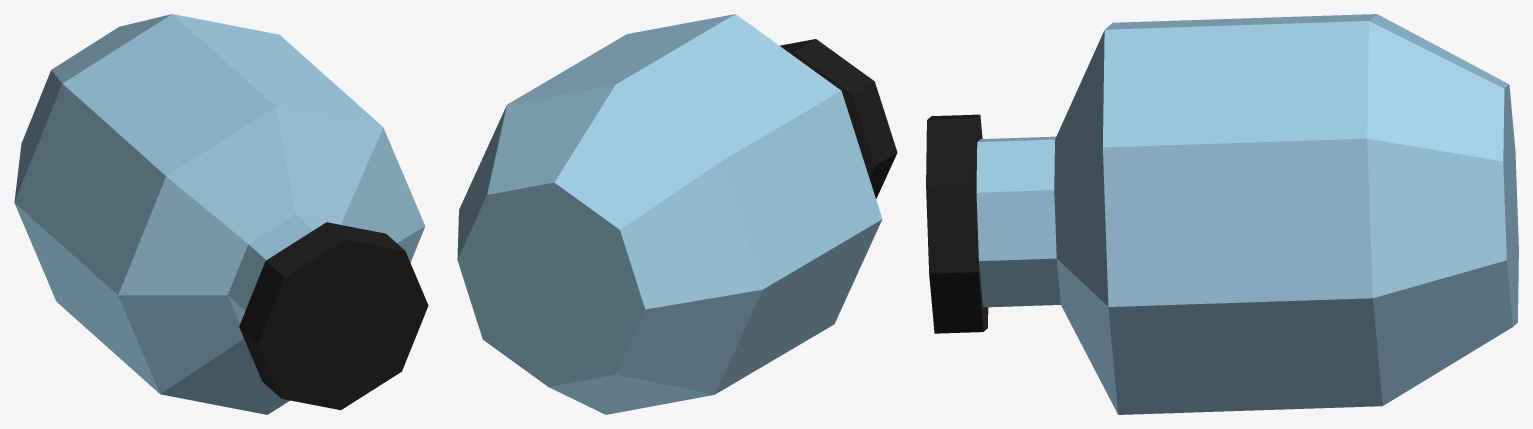
Rendered from Potion.fbx.
The picture shows the model from 3 angles, left to right: view 1: azimuth 30°, elevation 25°; view 2: azimuth 150°, elevation 25°; view 3: azimuth 270°, elevation 25°; orthographic projection. The views are drawn at different scales.
Visible parts, largest first — view 1: Potion; view 2: Potion; view 3: Potion.
Part boxes in pixels (box(x1,y1,x2,y2)): Potion: box(14, 14, 428, 414); Potion: box(457, 14, 897, 414); Potion: box(926, 14, 1518, 414).
Size of the model in its own units: 1.89 by 1.91 by 2.63.
